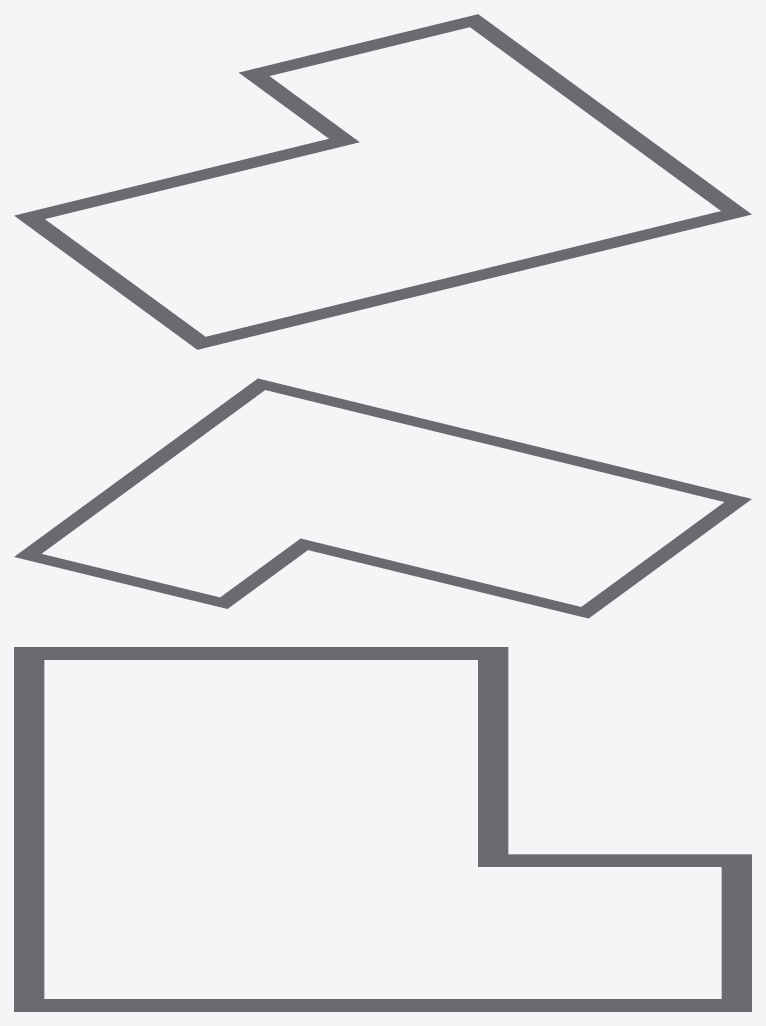
File: kd_stage_135ded_4_96_exterior_piece_1.glb
3 views of the same model, one above another, from view 1: azimuth 30°, elevation 25°; view 2: azimuth 150°, elevation 25°; view 3: azimuth 270°, elevation 25° (orthographic). The views are drawn at different scales.
Visible parts, largest first — view 1: kd_stage_135ded_4_96_exterior_piece_1; view 2: kd_stage_135ded_4_96_exterior_piece_1; view 3: kd_stage_135ded_4_96_exterior_piece_1.
Part boxes in pixels (bbox=[...]): kd_stage_135ded_4_96_exterior_piece_1: bbox=[14, 14, 751, 349]; kd_stage_135ded_4_96_exterior_piece_1: bbox=[14, 378, 751, 618]; kd_stage_135ded_4_96_exterior_piece_1: bbox=[14, 647, 751, 1011].
Bounding box in the file's own units: 4.25 × 0 × 3.63.
Materials: 1 (1 with a texture image).
